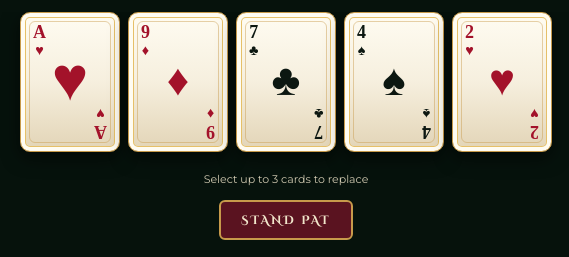
DiscardControls › tapping the same card again unmarks it
Click the button "A ♥ ♥ A ♥".
click(70, 86)  # box [20,12,120,159]
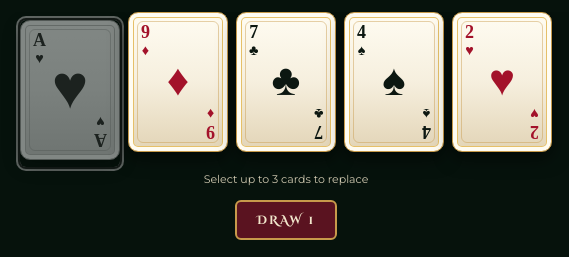
Click the button "A ♥ ♥ A ♥".
click(70, 94)  # box [20,20,120,167]
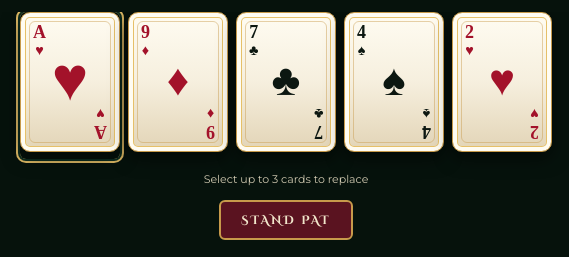
Expected: the button "STAND PAT" is shown, [219,200,353,240]
